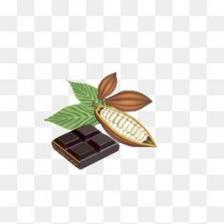brown: (51, 125, 120, 169), (107, 90, 153, 112), (107, 91, 153, 112)
